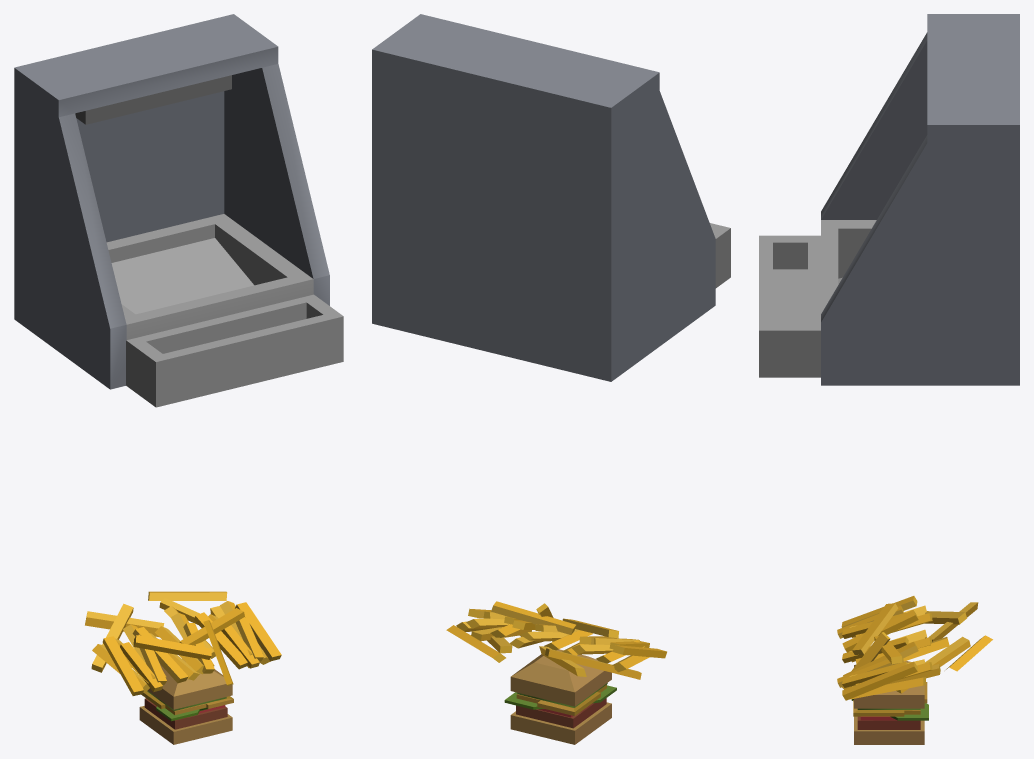
Rendered from Everything.glb.
3 views of the same model, side by side, from view 1: azimuth 30°, elevation 25°; view 2: azimuth 150°, elevation 25°; view 3: azimuth 270°, elevation 25° (orthographic). The views are drawn at different scales.
Visible parts, largest first — view 1: SI_Prop_FriesHeater_01, ST_Prop_Fries, UpperBun, LowerBun, Meat, Cheese; view 2: SI_Prop_FriesHeater_01, ST_Prop_Fries, UpperBun, LowerBun, Meat, Cheese; view 3: SI_Prop_FriesHeater_01, ST_Prop_Fries, UpperBun, LowerBun, Meat, Cheese.
Part boxes in pixels (left/top/right/bottom): SI_Prop_FriesHeater_01: left=14, top=14, right=343, bottom=407; ST_Prop_Fries: left=85, top=591, right=281, bottom=695; UpperBun: left=147, top=659, right=232, bottom=709; LowerBun: left=139, top=706, right=232, bottom=744; Meat: left=144, top=698, right=227, bottom=729; Cheese: left=141, top=691, right=233, bottom=714; SI_Prop_FriesHeater_01: left=372, top=14, right=730, bottom=381; ST_Prop_Fries: left=446, top=601, right=666, bottom=679; UpperBun: left=510, top=649, right=611, bottom=706; LowerBun: left=510, top=702, right=611, bottom=744; Meat: left=516, top=698, right=606, bottom=728; Cheese: left=516, top=684, right=606, bottom=715; SI_Prop_FriesHeater_01: left=759, top=14, right=1019, bottom=385; ST_Prop_Fries: left=837, top=596, right=992, bottom=700; UpperBun: left=854, top=661, right=924, bottom=708; LowerBun: left=854, top=716, right=924, bottom=744; Meat: left=857, top=716, right=920, bottom=729; Cheese: left=853, top=682, right=927, bottom=716.
Size of the model in its own units: 0.0159 by 0.0441 by 0.0158.
3 materials, 3 textured.
